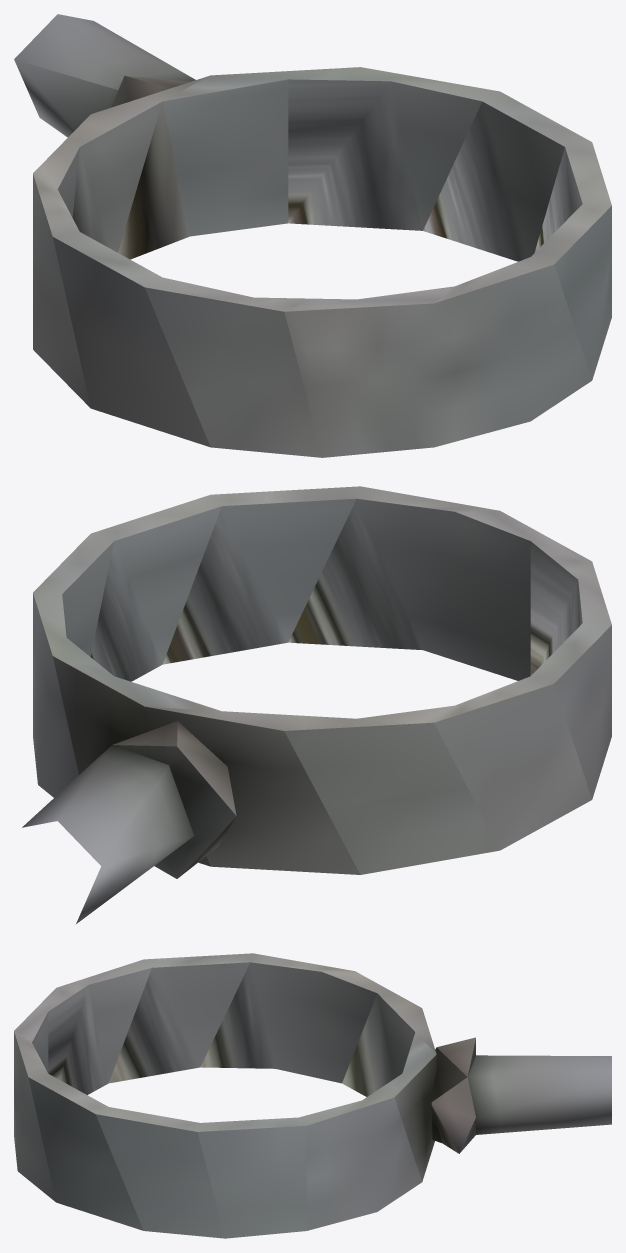
The model's file is modular-pipes-support.glb.
3 views of the same model, one above another, from view 1: azimuth 30°, elevation 25°; view 2: azimuth 150°, elevation 25°; view 3: azimuth 270°, elevation 25° (orthographic). The views are drawn at different scales.
Parts seen in each view (by area): view 1: modular_pipes_support; view 2: modular_pipes_support; view 3: modular_pipes_support.
Boxes of the visible parts, bbox=[...] form: modular_pipes_support: bbox=[14, 14, 611, 457]; modular_pipes_support: bbox=[22, 486, 611, 923]; modular_pipes_support: bbox=[14, 953, 611, 1238].
Size of the model in its own units: 0.1103 by 0.03 by 0.1547.
Materials: 1 (1 with a texture image).
